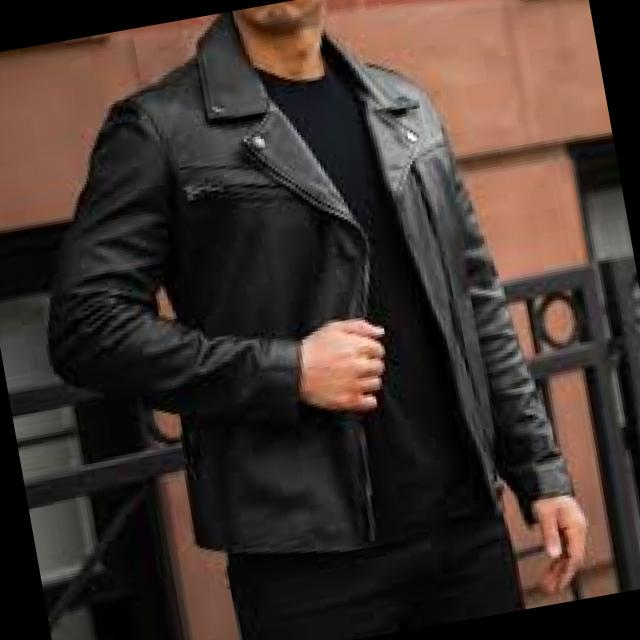Jacket: (8, 0, 576, 582)
